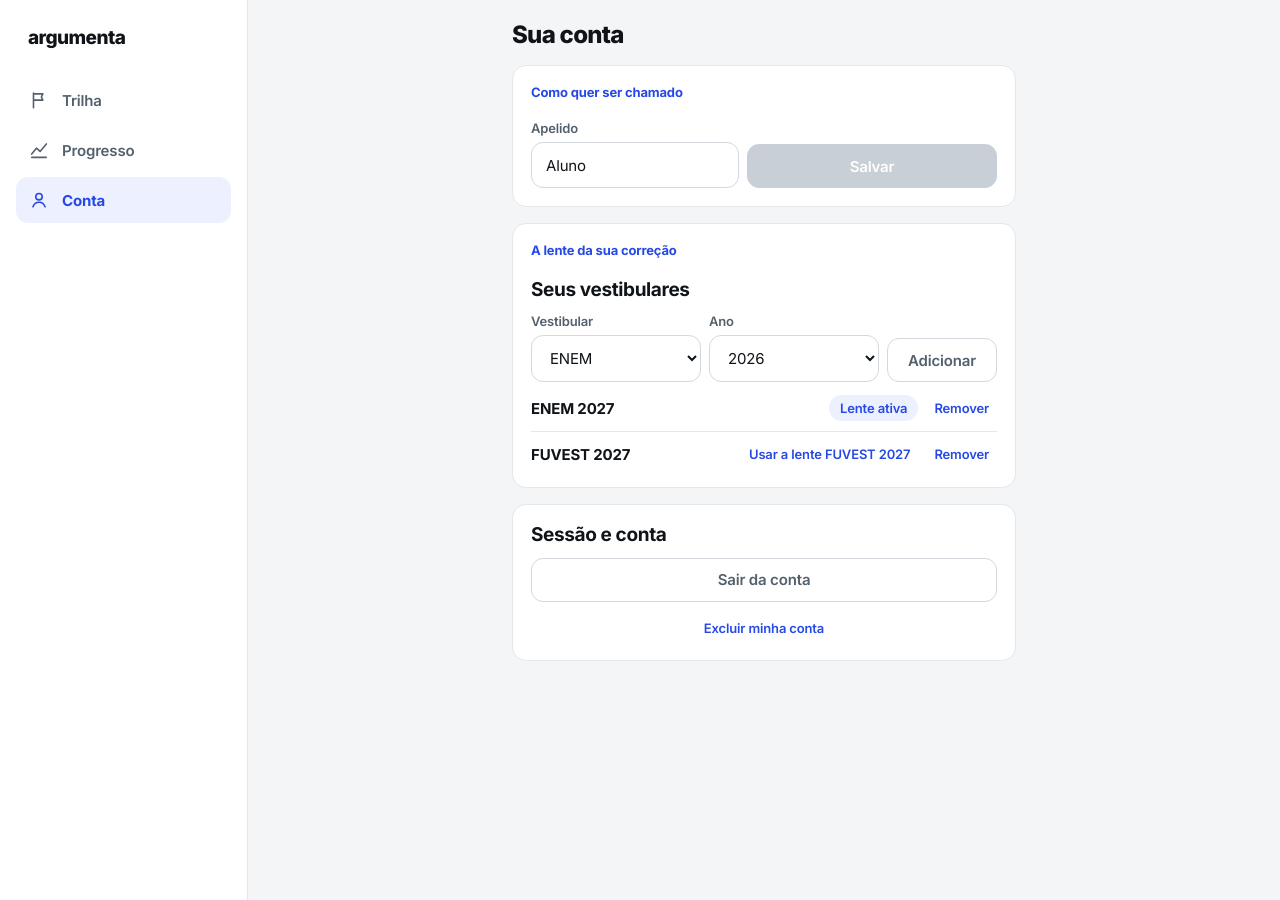
Scenario: Conta (a terceira aba) › trocar a lente ativa move a marca para o outro vestibular
This screenshot has width=1280, height=900.
Click the button "Usar a lente FUVEST 2027" at (830, 454), box [741,440,918,469]
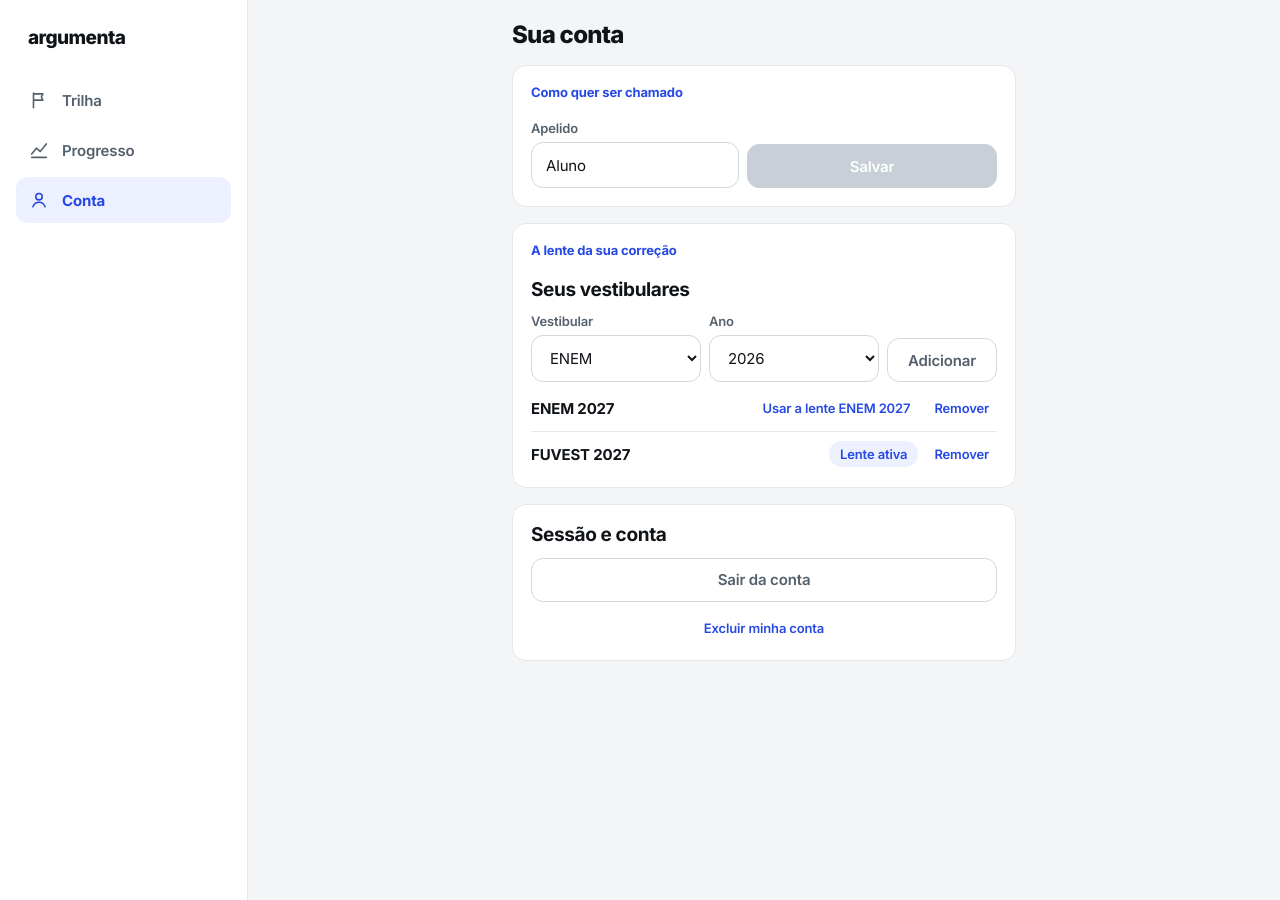
Check: the text "Lente ativa" is shown, box [829,441,918,467]
Check: the button "Usar a lente ENEM 2027" is shown, box [754,394,918,423]
